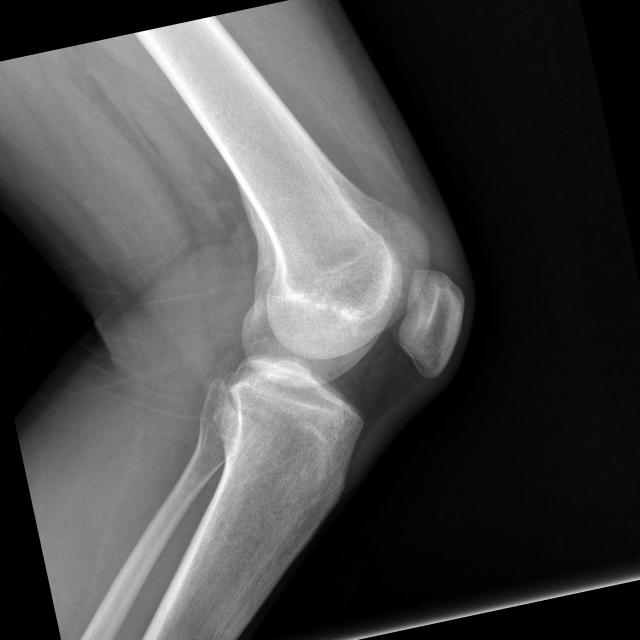Knee: (171, 184, 487, 471)
